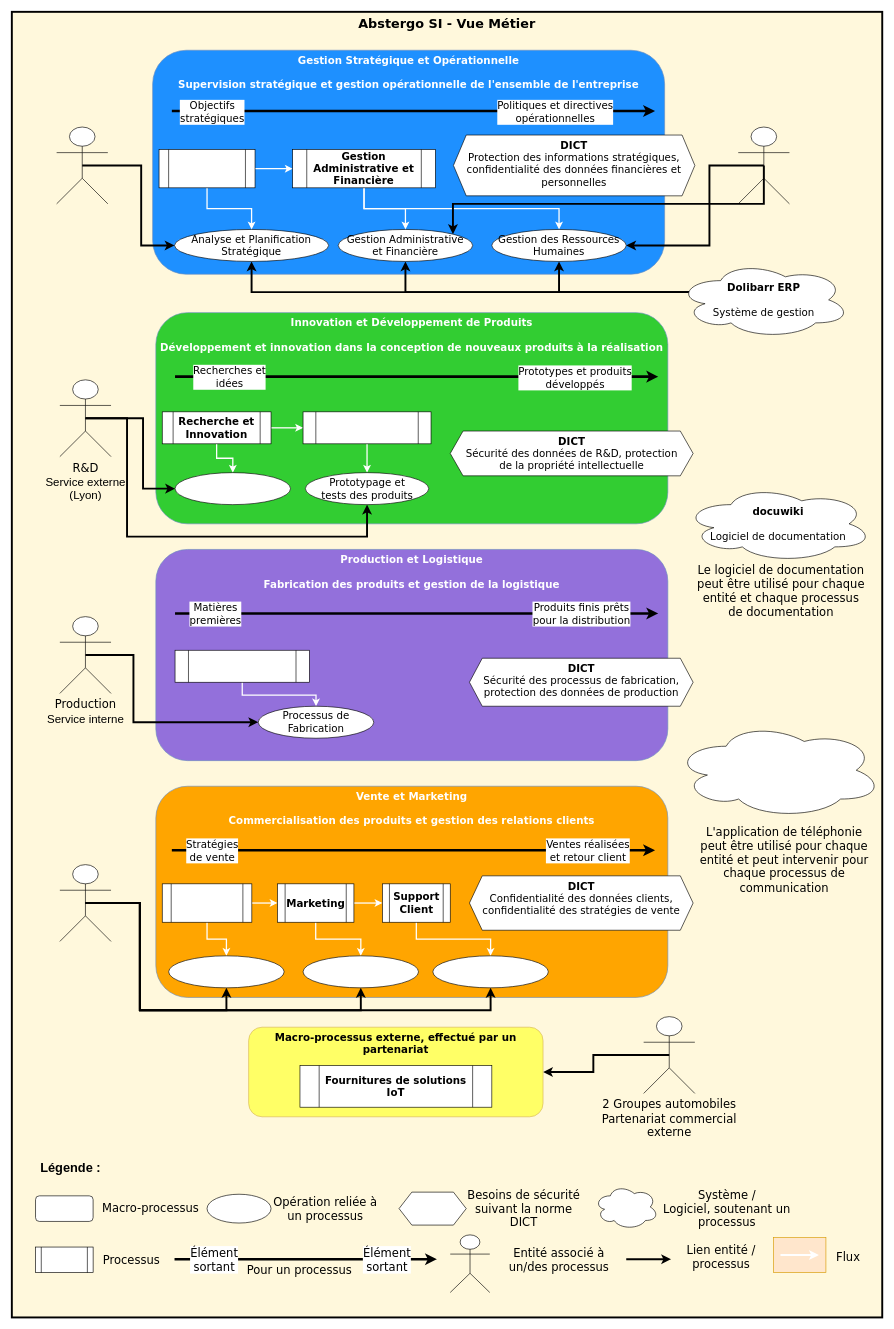
Some shapes in this 894 by 1329 pixel diagram are drawn without their labels. Here are the shapes that lost their labels. From the top down, the centre of each, then its label:
At pixel 82 165: "Direction Service interne".
At pixel 206 168: "Planification Stratégique".
At pixel 763 165: "Administratif Service interne".
At pixel 366 427: "Développement de Produits".
At pixel 232 488: "Conception des produits".
At pixel 241 666: "Production et Contrôle qualité".
At pixel 777 770: "FreePBX / Asterisk Système de téléphonie IP et de communication".
At pixel 85 902: "Commercial Service interne".
At pixel 207 902: "Gestion relation client".
At pixel 226 971: "Vente et Distribution".
At pixel 360 971: "Marketing et promotion".
At pixel 490 971: "Support Après-vente".
At pixel 432 1208: "DICT".
